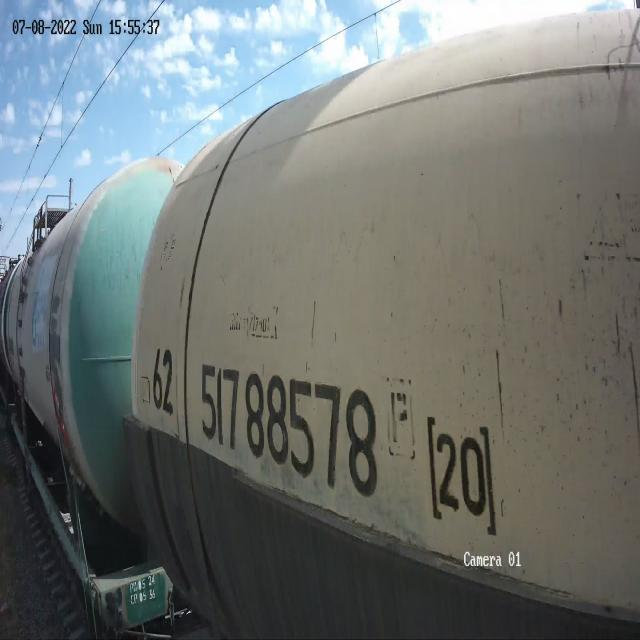tank: (124, 0, 640, 640), (0, 141, 180, 640)
